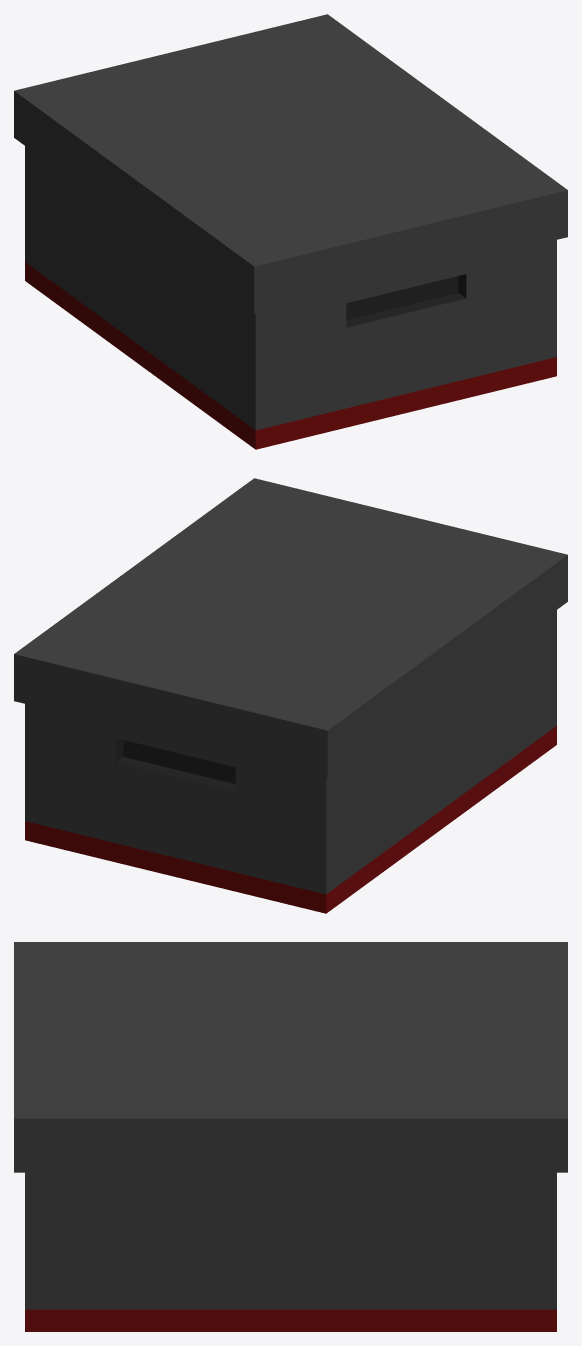
Rendered from BoxV1Black.fbx.
3 renders of one model, top to bottom at view 1: azimuth 30°, elevation 25°; view 2: azimuth 150°, elevation 25°; view 3: azimuth 270°, elevation 25°, orthographic. The views are drawn at different scales.
Parts seen in each view (by area): view 1: BoxV1Black; view 2: BoxV1Black; view 3: BoxV1Black.
Boxes of the visible parts, <box> form: BoxV1Black: <box>14,14,567,449</box>; BoxV1Black: <box>14,478,567,913</box>; BoxV1Black: <box>14,942,567,1331</box>.
Size of the model in its own units: 34.9 by 20 by 46.3.
